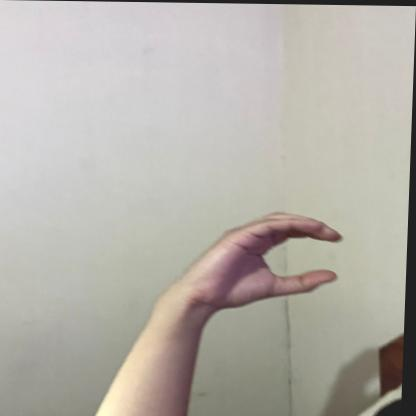C: (187, 201, 348, 309)
